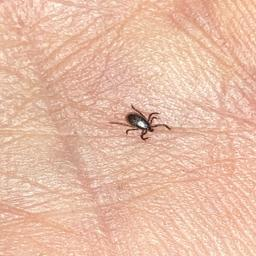Ixodes scapularis: (113, 104, 171, 141)
